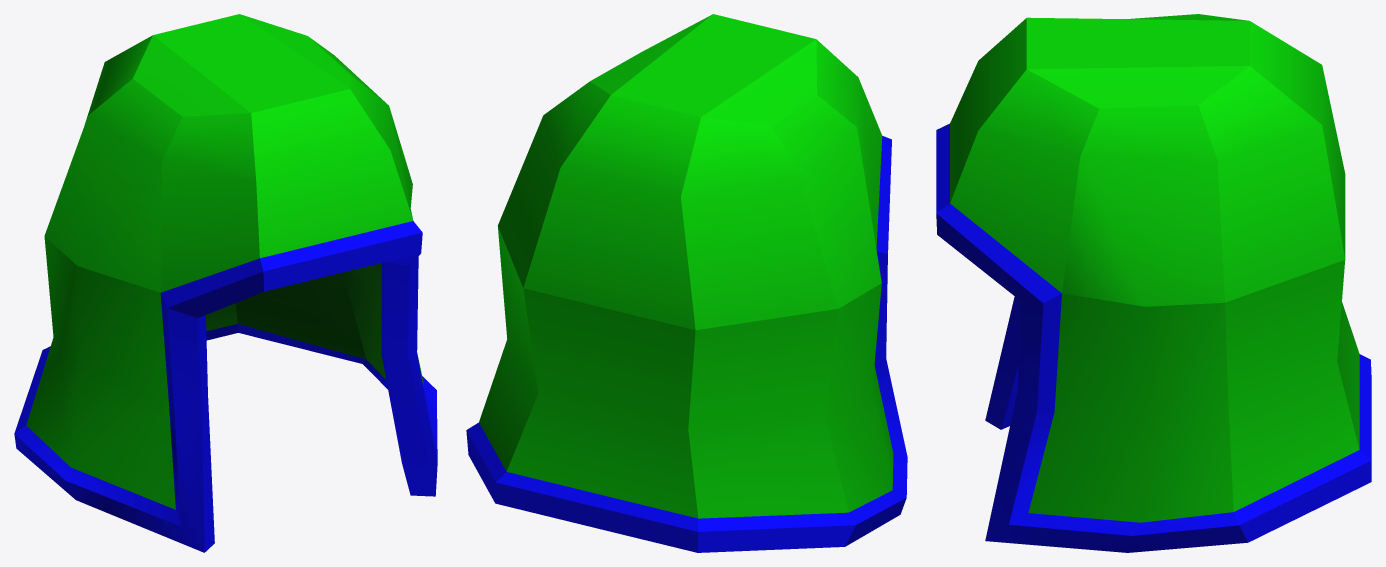
File: ArmingCap_M.fbx
3 renders of one model, left to right at view 1: azimuth 30°, elevation 25°; view 2: azimuth 150°, elevation 25°; view 3: azimuth 270°, elevation 25°, orthographic. The views are drawn at different scales.
Visible parts, largest first — view 1: ArmingCap_M; view 2: ArmingCap_M; view 3: ArmingCap_M.
Boxes of the visible parts, x1=… form: ArmingCap_M: x1=14, y1=14, x2=437, y2=552; ArmingCap_M: x1=466, y1=14, x2=907, y2=552; ArmingCap_M: x1=936, y1=14, x2=1371, y2=552.
Bounding box in the file's own units: 30.75 × 32.21 × 29.06.
